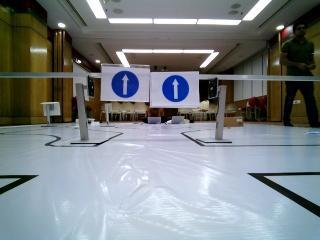straight: (103, 64, 152, 101), (152, 73, 197, 105)
